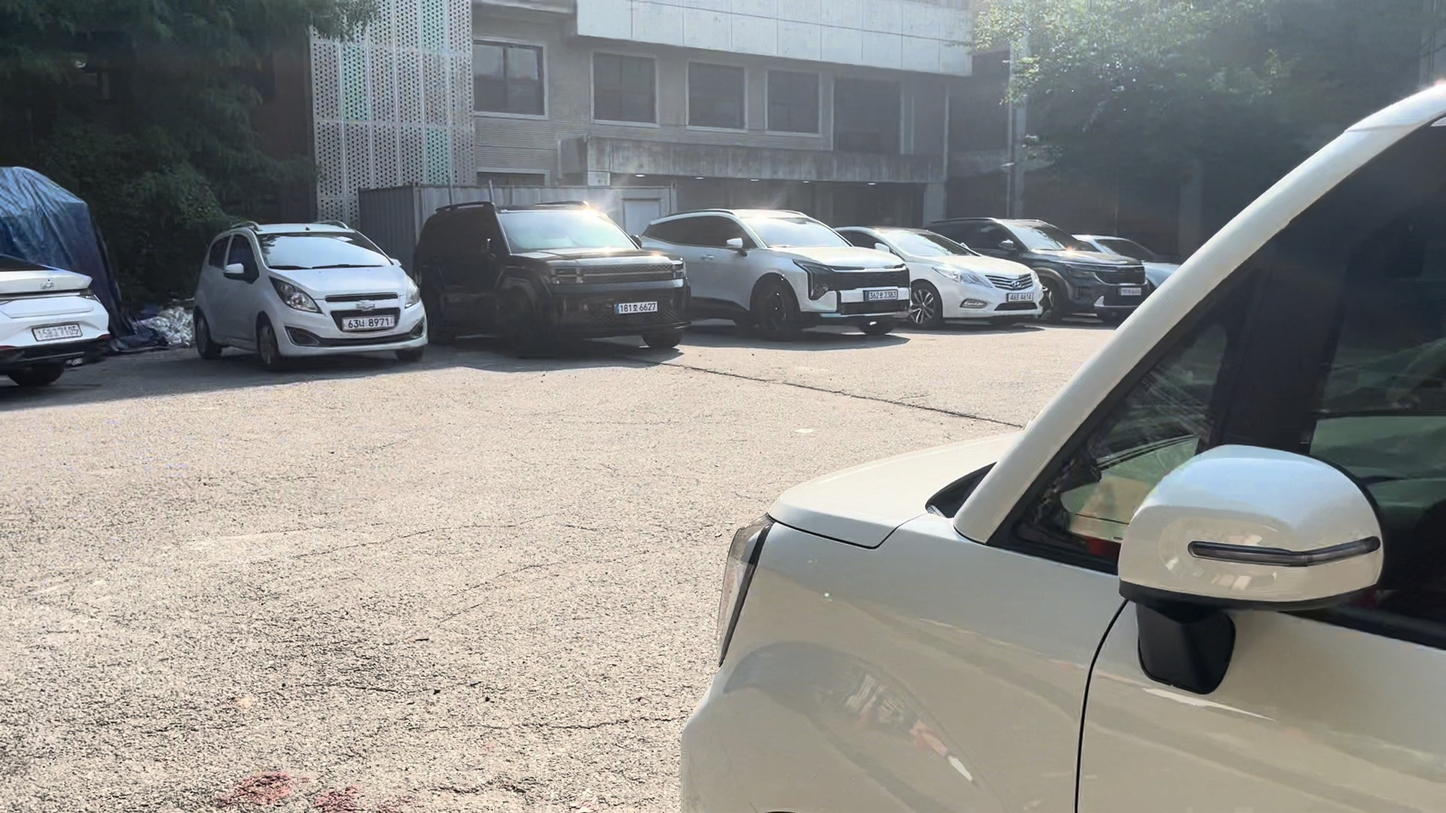license_plate: (32, 323, 81, 341)
side_mirror: (1115, 445, 1386, 605)
